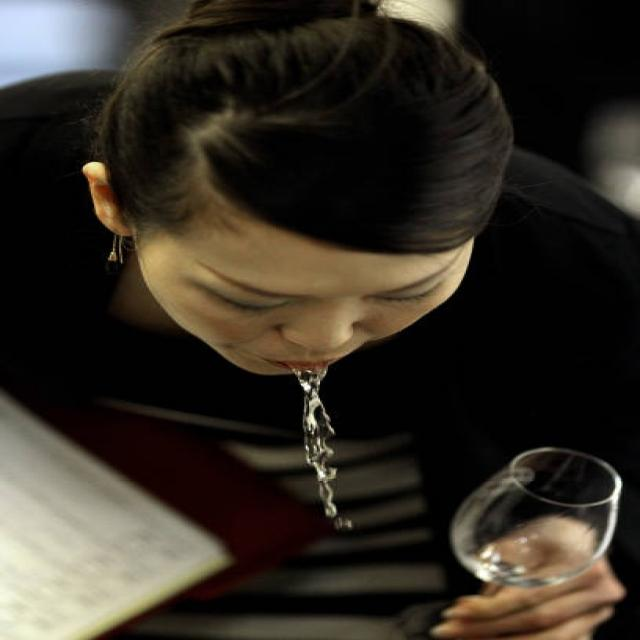Spitting: (65, 4, 521, 474)
